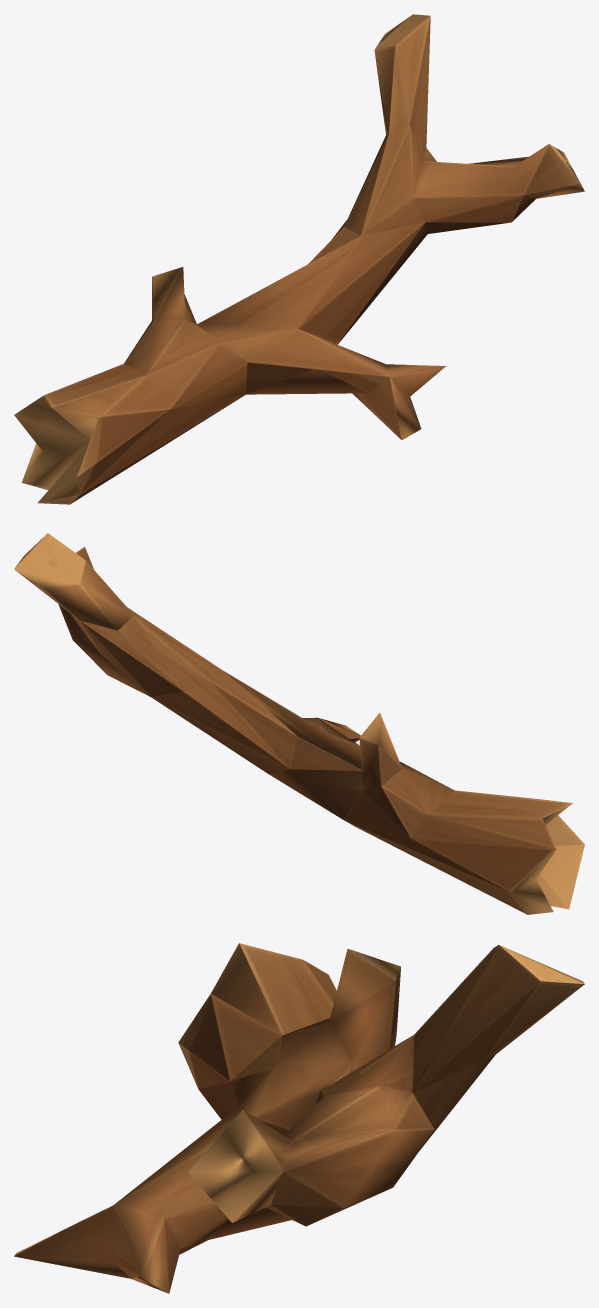
File: Meshy_AI_Carved_Driftwood_Bran_0818040402_texture.fbx
3 renders of one model, top to bottom at view 1: azimuth 30°, elevation 25°; view 2: azimuth 150°, elevation 25°; view 3: azimuth 270°, elevation 25°, orthographic. The views are drawn at different scales.
Visible parts, largest first — view 1: mesh_node; view 2: mesh_node; view 3: mesh_node.
Boxes of the visible parts, left/top/right/bottom form: mesh_node: left=14, top=14, right=584, bottom=504; mesh_node: left=14, top=533, right=584, bottom=914; mesh_node: left=14, top=943, right=584, bottom=1293.
Size of the model in its own units: 172 by 100 by 95.96.
Materials: 1 (1 with a texture image).
